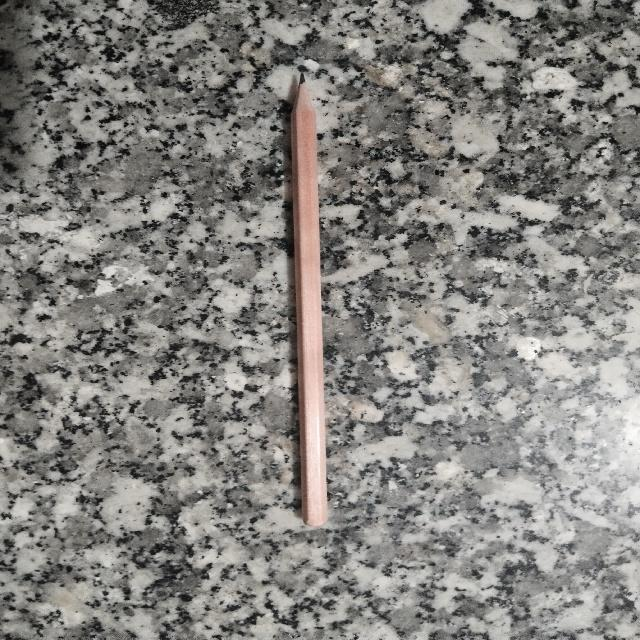pencil: (291, 75, 327, 525)
